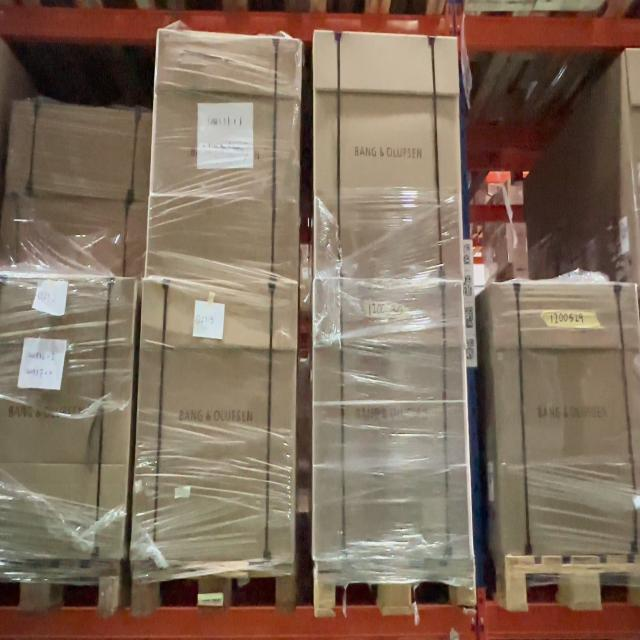box: (314, 283, 471, 556), (135, 280, 291, 547), (495, 275, 640, 550), (0, 281, 128, 566), (150, 36, 295, 272), (319, 39, 455, 277), (0, 108, 151, 209), (2, 200, 146, 273)
